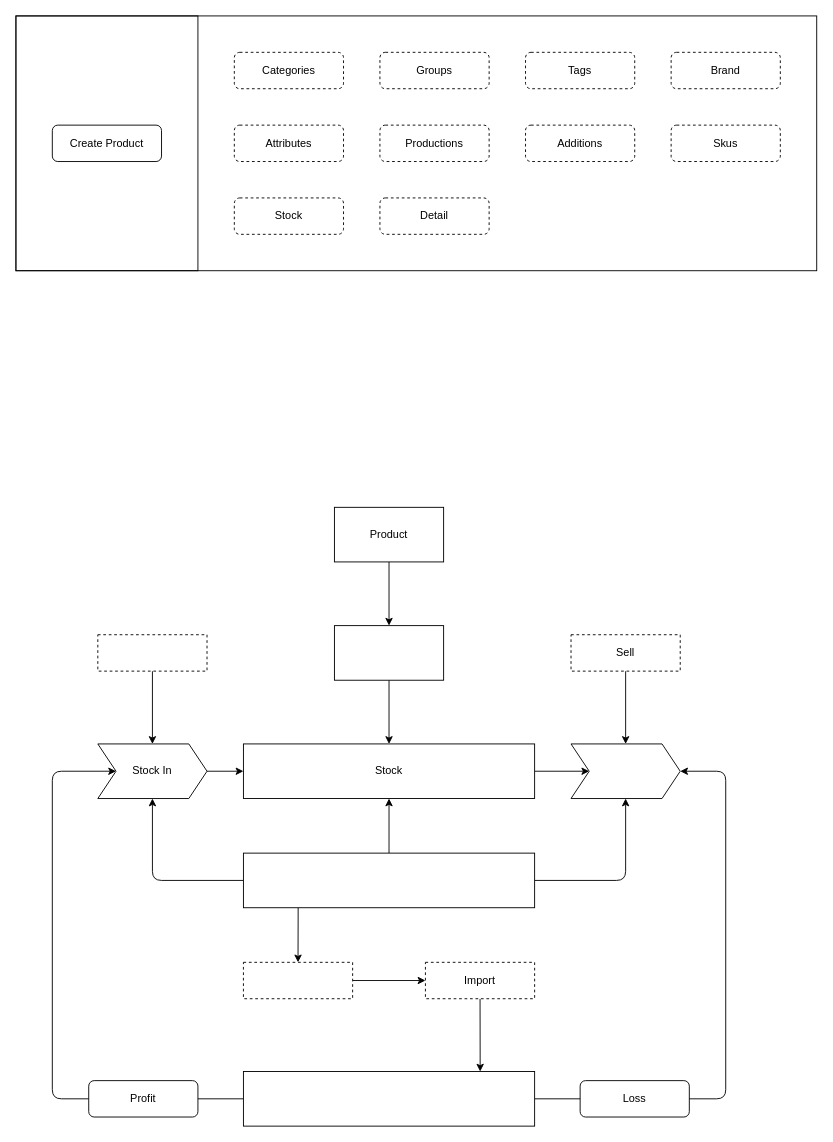
Some shapes in this 833 by 1142 pixel diagram are drawn without their labels. The centre of each missing label's shape, as x and y in pixels:
"Check" goes at point 389,880.
"Diff" goes at point 389,1098.
"Export" goes at point 298,980.
"Outbound" goes at point 625,771.
"Purchase" goes at point 152,652.
"Sku" goes at point 389,652.
